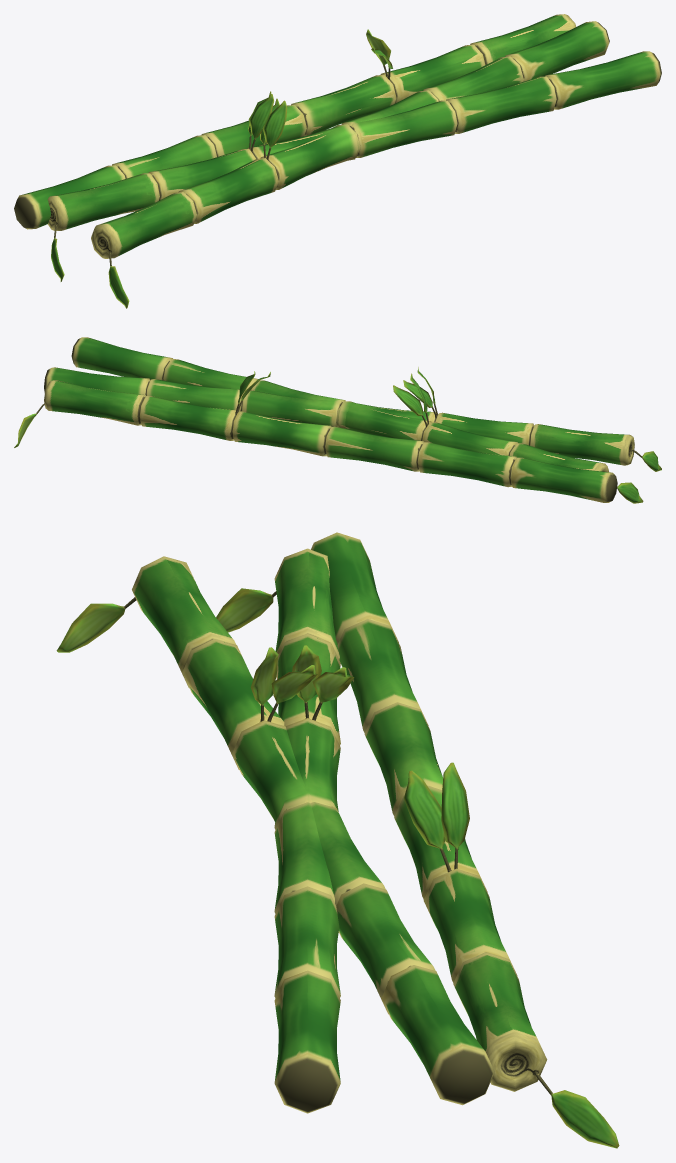
The model's file is bamboo.glb.
3 renders of one model, top to bottom at view 1: azimuth 30°, elevation 25°; view 2: azimuth 150°, elevation 25°; view 3: azimuth 270°, elevation 25°, orthographic. The views are drawn at different scales.
Visible parts, largest first — view 1: Bamboo_0, Bamboo_0.001, Bamboo_0.002; view 2: Bamboo_0.002, Bamboo_0.001, Bamboo_0; view 3: Bamboo_0.001, Bamboo_0.002, Bamboo_0.
Part boxes in pixels (box(x1,y1,x2,y2)): Bamboo_0: box(47, 51, 661, 281); Bamboo_0.001: box(91, 21, 609, 308); Bamboo_0.002: box(14, 14, 575, 229); Bamboo_0.002: box(14, 371, 617, 502); Bamboo_0.001: box(44, 367, 661, 471); Bamboo_0: box(71, 337, 643, 503); Bamboo_0.001: box(56, 556, 494, 1105); Bamboo_0.002: box(311, 532, 619, 1148); Bamboo_0: box(216, 548, 354, 1113).
Bounding box in the file's own units: 5.8 × 0.9756 × 2.6.
1 material, 1 textured.
